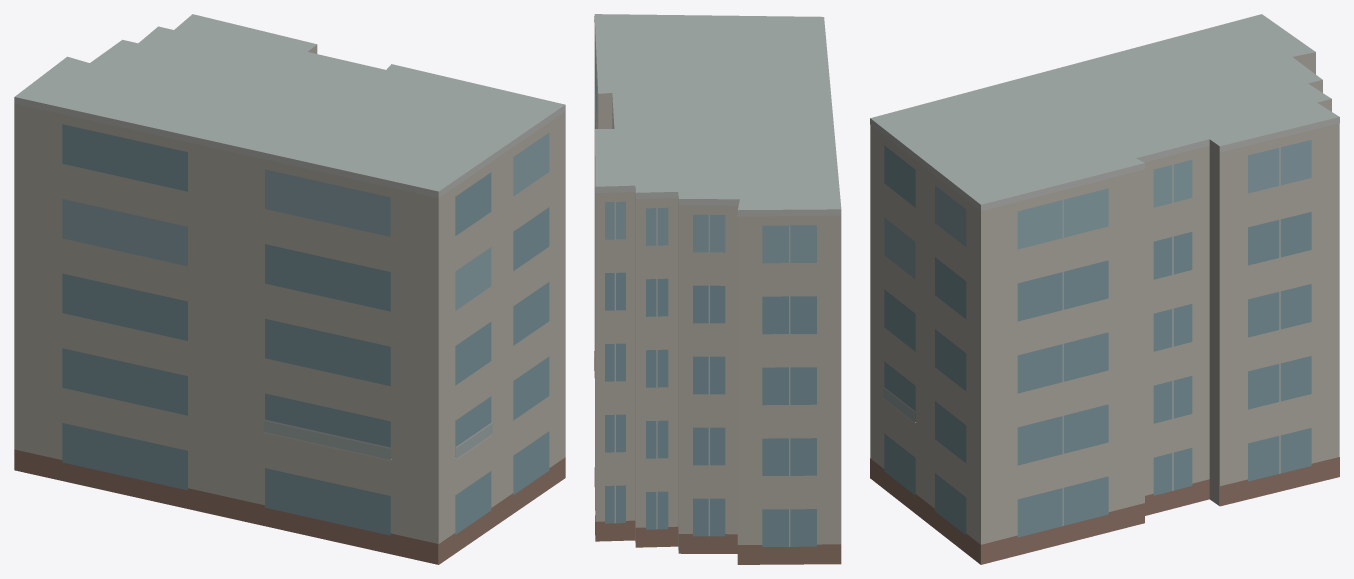
File: survey-upis-32575224.glb
3 views of the same model, side by side, from view 1: azimuth 30°, elevation 25°; view 2: azimuth 150°, elevation 25°; view 3: azimuth 270°, elevation 25° (orthographic). The views are drawn at different scales.
Visible parts, largest first — view 1: survey-upis-32575224.tmp; view 2: survey-upis-32575224.tmp; view 3: survey-upis-32575224.tmp.
Part boxes in pixels (<box>): survey-upis-32575224.tmp: <box>14,14,565,564</box>; survey-upis-32575224.tmp: <box>594,14,841,564</box>; survey-upis-32575224.tmp: <box>870,14,1339,564</box>.
Bounding box in the file's own units: 15.61 × 13.73 × 16.23.
